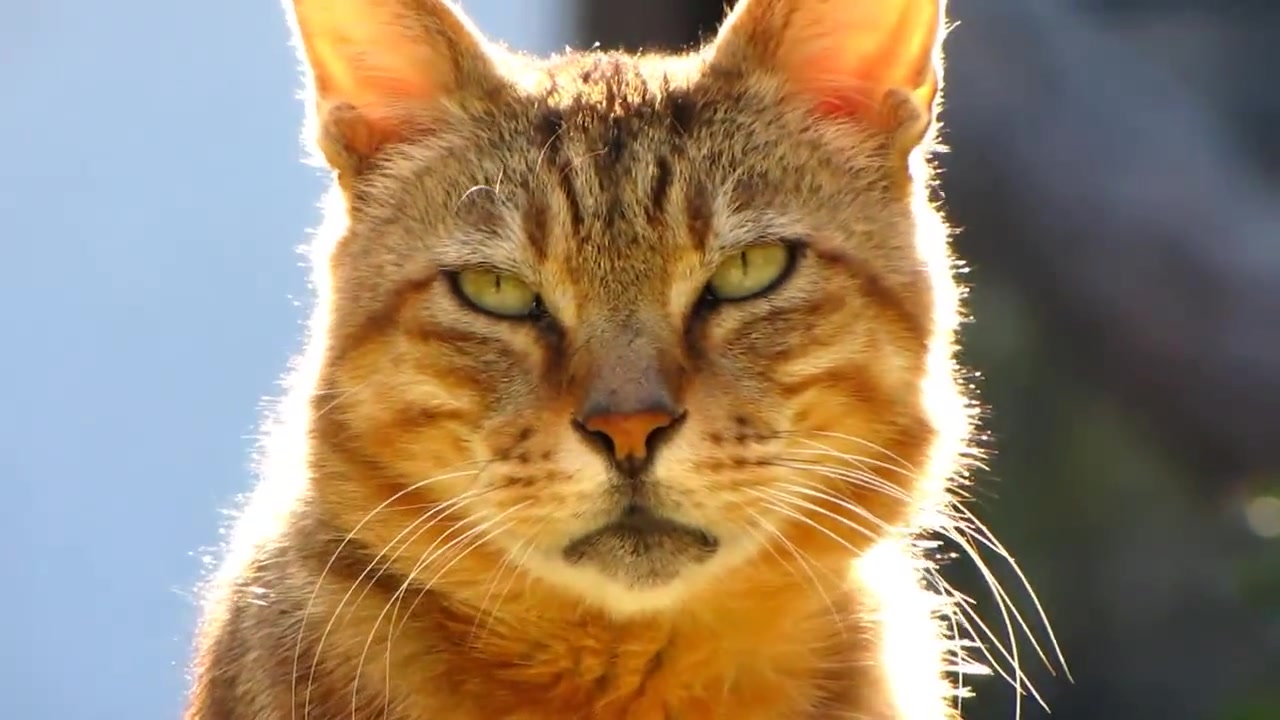cat: (193, 3, 991, 720)
